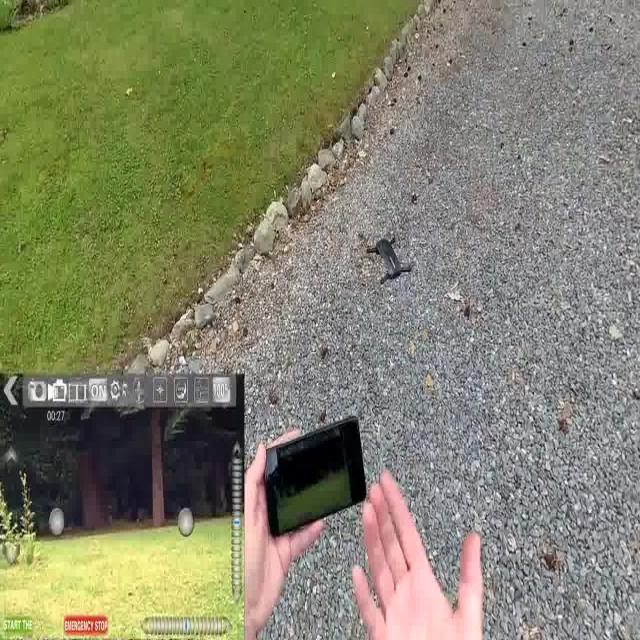drones: (361, 221, 418, 300)
